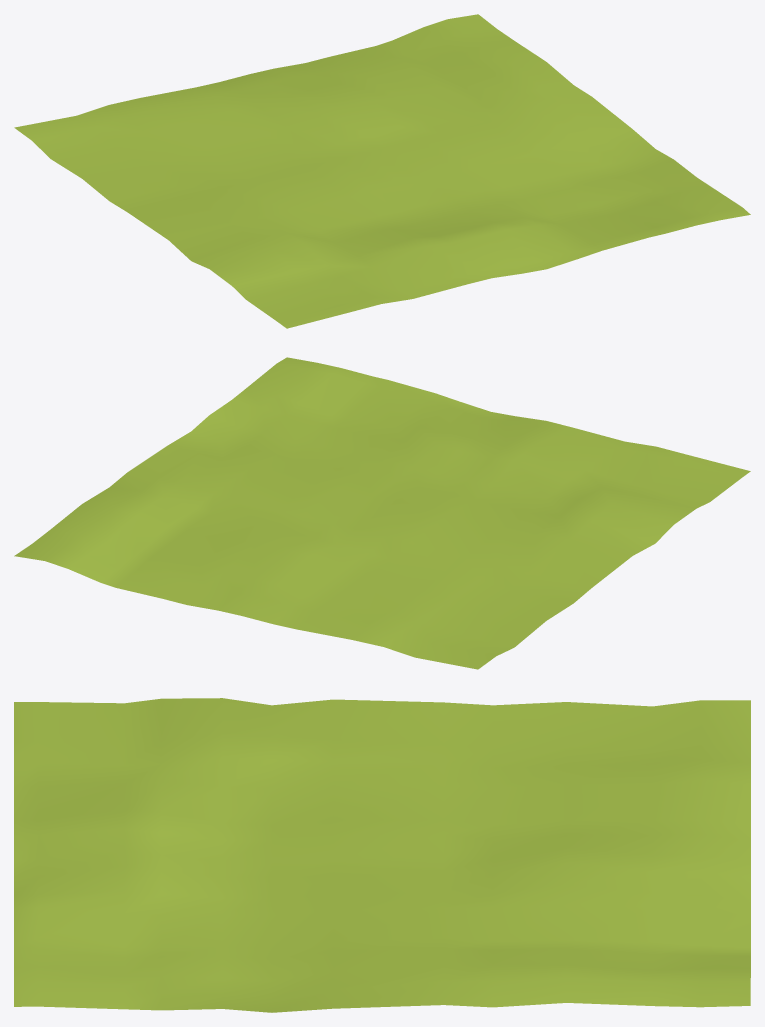
File: collider_carre13.fbx
3 views of the same model, one above another, from view 1: azimuth 30°, elevation 25°; view 2: azimuth 150°, elevation 25°; view 3: azimuth 270°, elevation 25° (orthographic). The views are drawn at different scales.
Parts seen in each view (by area): view 1: collider_carre7; view 2: collider_carre7; view 3: collider_carre7.
Part boxes in pixels (x1=…): collider_carre7: x1=14, y1=14, x2=750, y2=328; collider_carre7: x1=14, y1=357, x2=750, y2=669; collider_carre7: x1=14, y1=698, x2=750, y2=1012.
Bounding box in the file's own units: 708 × 24.12 × 720.
